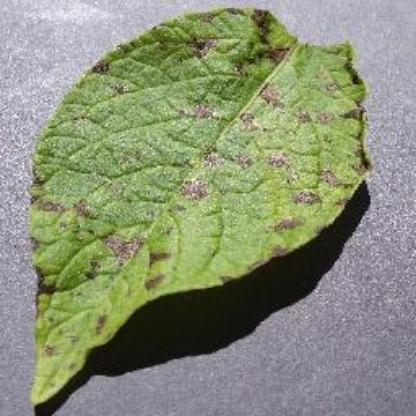Early-Blight: (25, 6, 374, 406)
